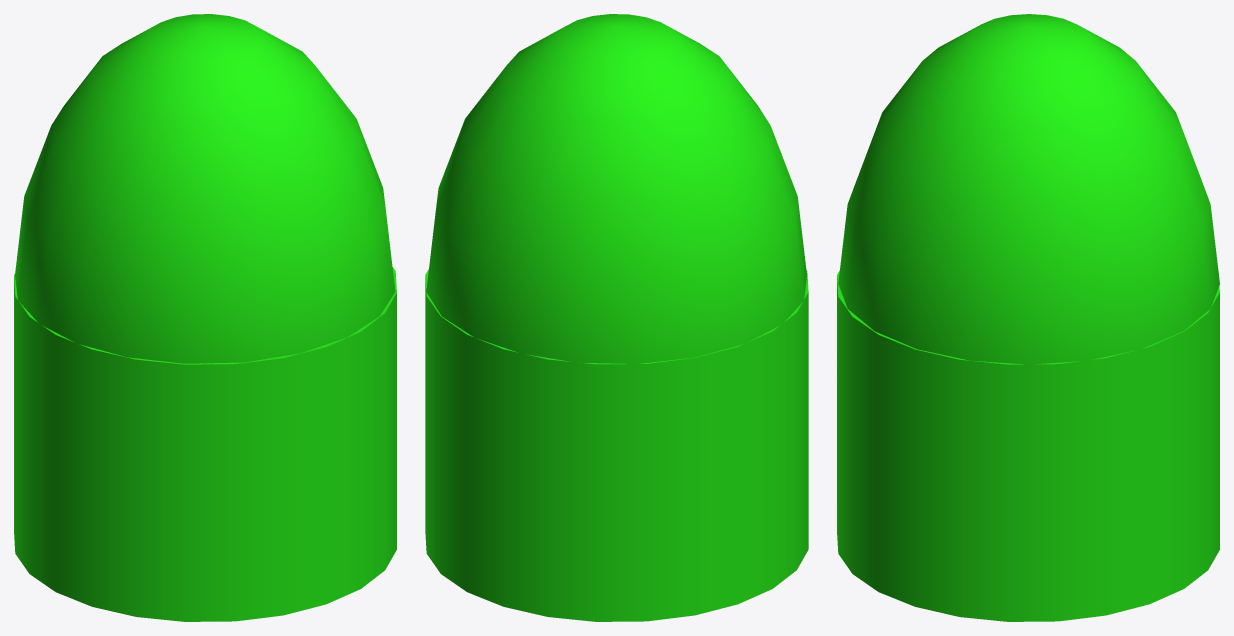
Rendered from greenBullet.dae.
The picture shows the model from 3 angles, left to right: view 1: azimuth 30°, elevation 25°; view 2: azimuth 150°, elevation 25°; view 3: azimuth 270°, elevation 25°; orthographic projection.
Parts seen in each view (by area): view 1: SimpleSphere02, Component_1; view 2: SimpleSphere02, Component_1; view 3: SimpleSphere02, Component_1.
Boxes of the visible parts, left/top/right/bottom form: SimpleSphere02: left=15, top=14, right=395, bottom=363; Component_1: left=14, top=267, right=396, bottom=621; SimpleSphere02: left=426, top=14, right=806, bottom=366; Component_1: left=425, top=269, right=808, bottom=621; SimpleSphere02: left=838, top=14, right=1219, bottom=368; Component_1: left=837, top=270, right=1219, bottom=621.
Size of the model in its own units: 64.14 by 64.14 by 95.11.
